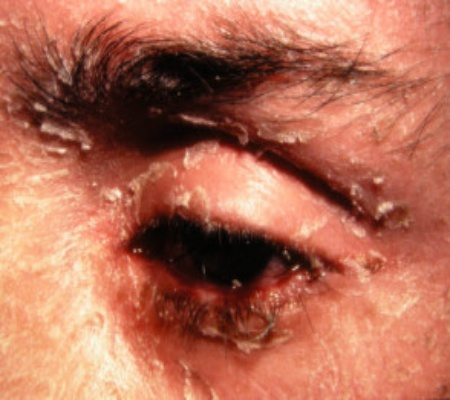SJS-TEN: (137, 213, 409, 398)
